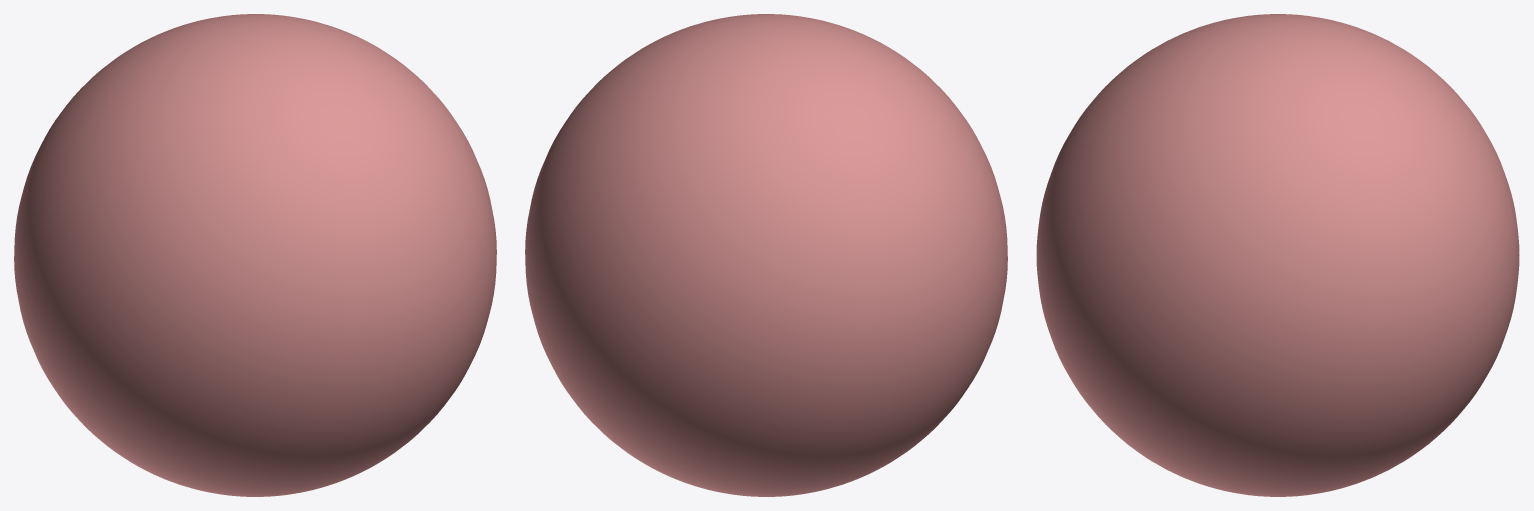
Rendered from reflective-sphere.gltf.
3 renders of one model, left to right at view 1: azimuth 30°, elevation 25°; view 2: azimuth 150°, elevation 25°; view 3: azimuth 270°, elevation 25°, orthographic.
Visible parts, largest first — view 1: Sphere; view 2: Sphere; view 3: Sphere.
Boxes of the visible parts, left/top/right/bottom form: Sphere: left=14, top=14, right=496, bottom=496; Sphere: left=525, top=14, right=1007, bottom=496; Sphere: left=1036, top=14, right=1519, bottom=496.
Bounding box in the file's own units: 2 × 2 × 2.
